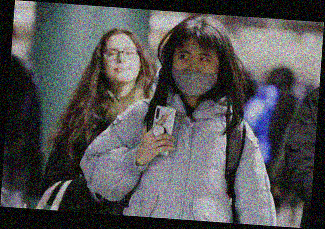with_mask: (169, 51, 220, 98)
without_mask: (101, 45, 140, 84)
